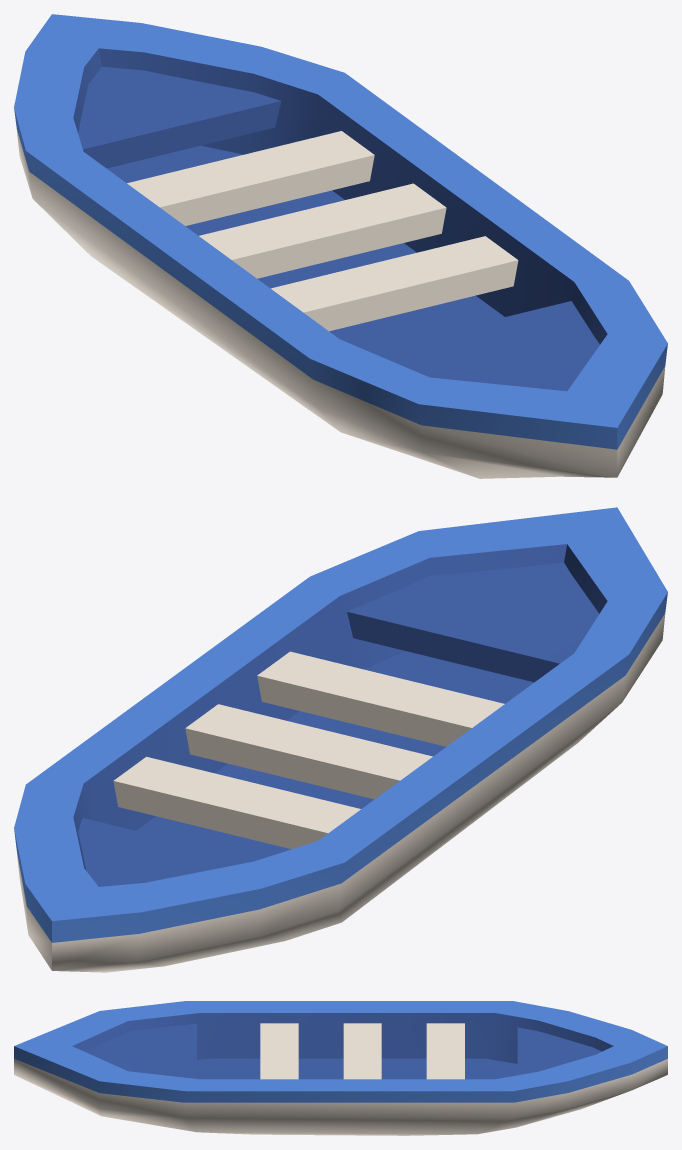
File: Boat_02.fbx
3 views of the same model, one above another, from view 1: azimuth 30°, elevation 25°; view 2: azimuth 150°, elevation 25°; view 3: azimuth 270°, elevation 25° (orthographic). The views are drawn at different scales.
Parts seen in each view (by area): view 1: Boat_02; view 2: Boat_02; view 3: Boat_02.
Boxes of the visible parts, bbox=[...] form: Boat_02: bbox=[14, 14, 667, 478]; Boat_02: bbox=[14, 507, 667, 972]; Boat_02: bbox=[14, 1001, 667, 1135].
Size of the model in its own units: 0.158 by 0.0553 by 0.4846.
